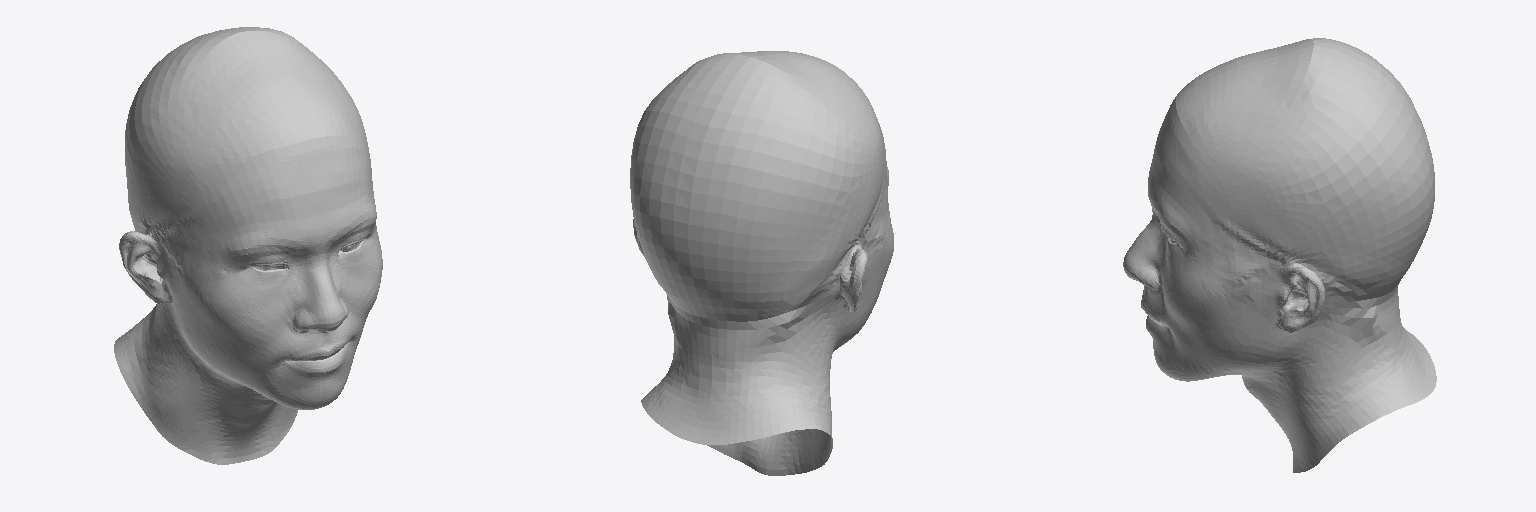
File: head2.obj
The picture shows the model from 3 angles: view 1: azimuth 30°, elevation 25°; view 2: azimuth 150°, elevation 25°; view 3: azimuth 270°, elevation 25°; orthographic projection.
Size of the model in its own units: 189 by 330 by 222.